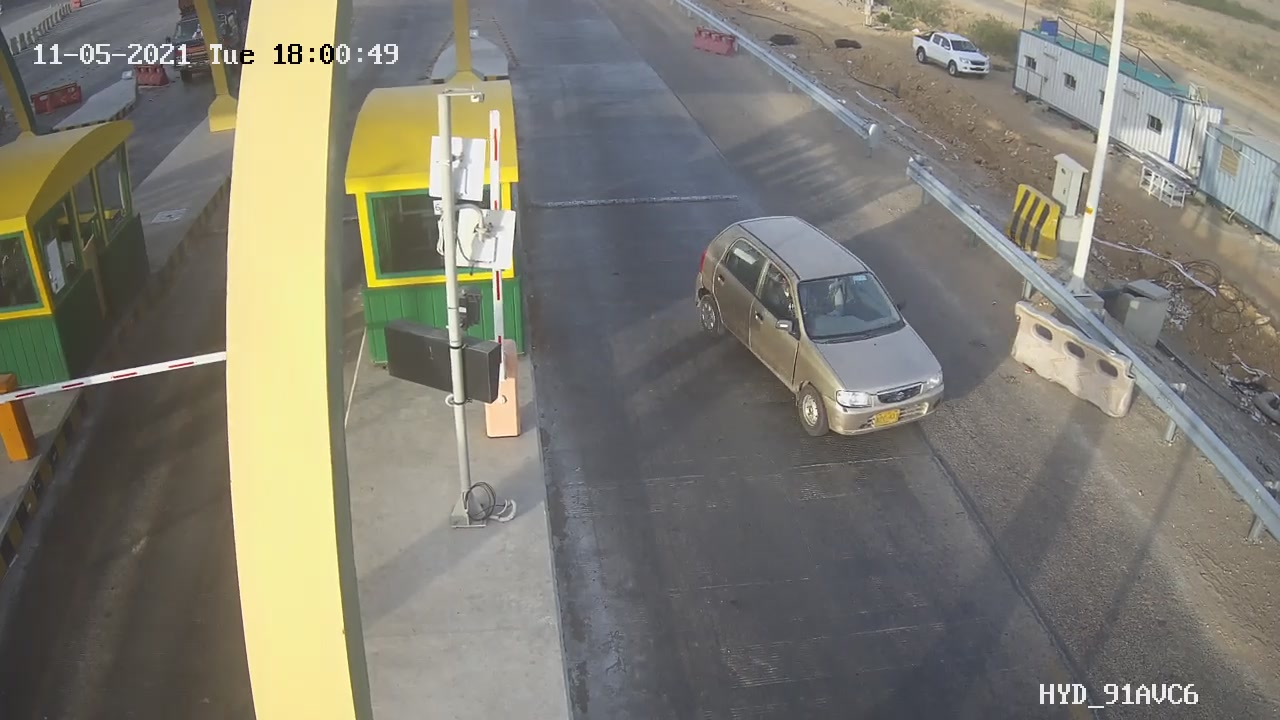F1: (687, 213, 958, 447)
